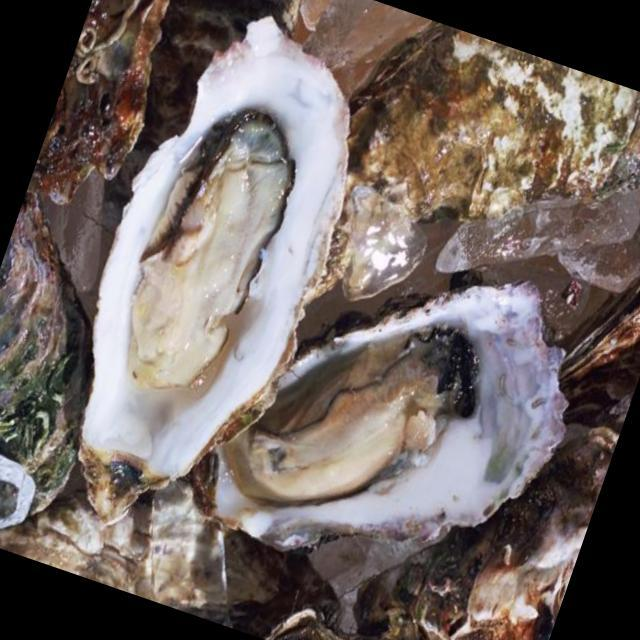Oyster- Indeterminate: (310, 4, 640, 337)
Oyster-Open: (15, 0, 399, 578), (171, 197, 608, 629)
